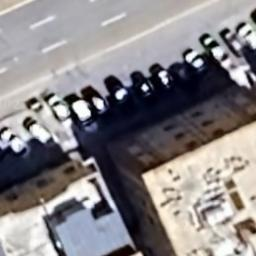SUV: (24, 120, 58, 148)
pickup: (68, 92, 100, 134), (93, 93, 114, 125)
sedan: (42, 88, 76, 128), (100, 74, 132, 110), (2, 126, 30, 162), (149, 61, 177, 95), (128, 68, 155, 103), (203, 35, 229, 68), (221, 25, 243, 55), (239, 22, 256, 52), (187, 50, 209, 73)
